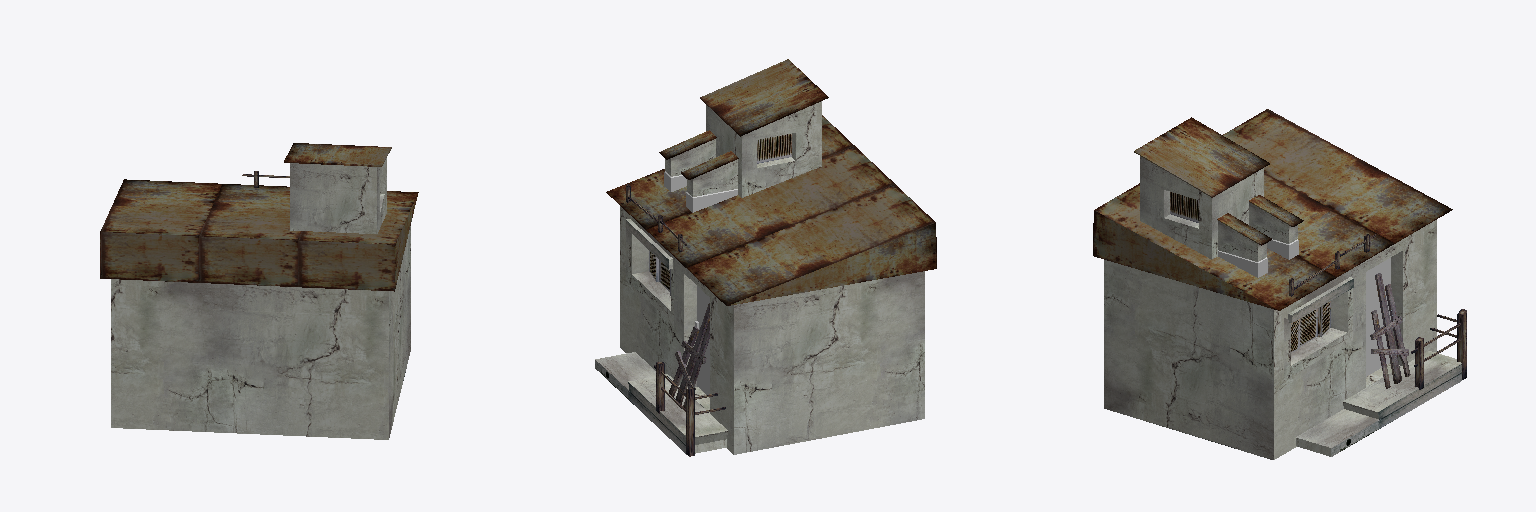
The picture shows the model from 3 angles: view 1: azimuth 30°, elevation 25°; view 2: azimuth 150°, elevation 25°; view 3: azimuth 270°, elevation 25°; orthographic projection.
Bounding box in the file's own units: 179 × 138 × 178.
Materials: 7 (6 with a texture image).